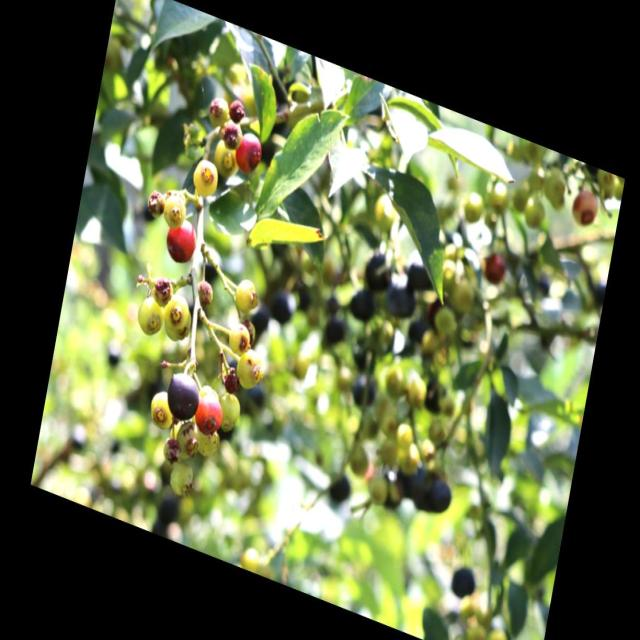blueberry: (160, 364, 202, 424)
blueberry-halfripe: (160, 211, 201, 274), (191, 386, 226, 437), (233, 126, 265, 176)
blueberry-unripe: (146, 382, 180, 433), (135, 290, 167, 340), (234, 344, 264, 392), (190, 155, 221, 201), (162, 289, 192, 334), (166, 455, 197, 498), (174, 416, 201, 463), (212, 136, 242, 178), (216, 388, 243, 432), (161, 188, 187, 232), (232, 274, 257, 314), (226, 319, 252, 357), (194, 424, 219, 456)
